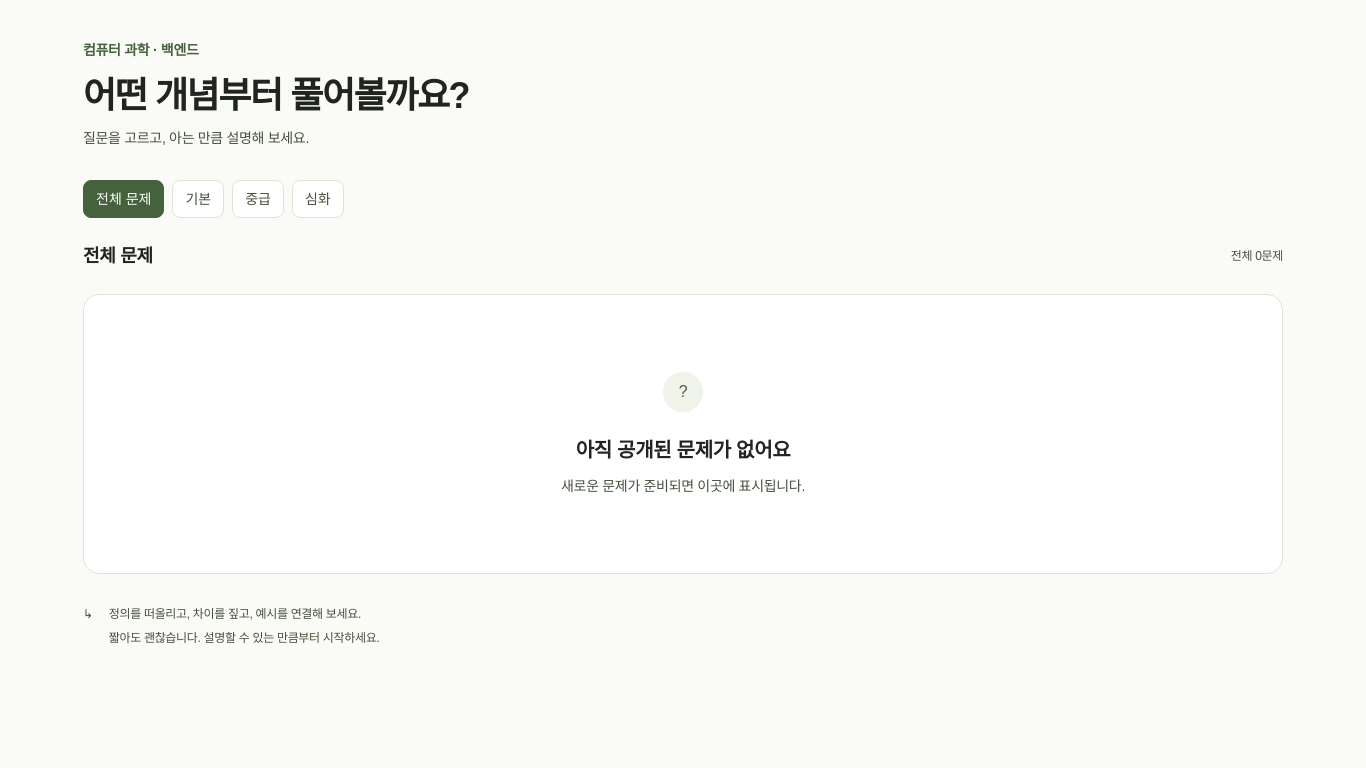
Test case: 문제 목록 화면 › 필터 결과가 없으면 전체 공개 문제 부족과 구분해서 안내한다
The width and height of the screenshot is (1366, 768).
Click the button "심화": (318, 199) 292,180 -> 344,218
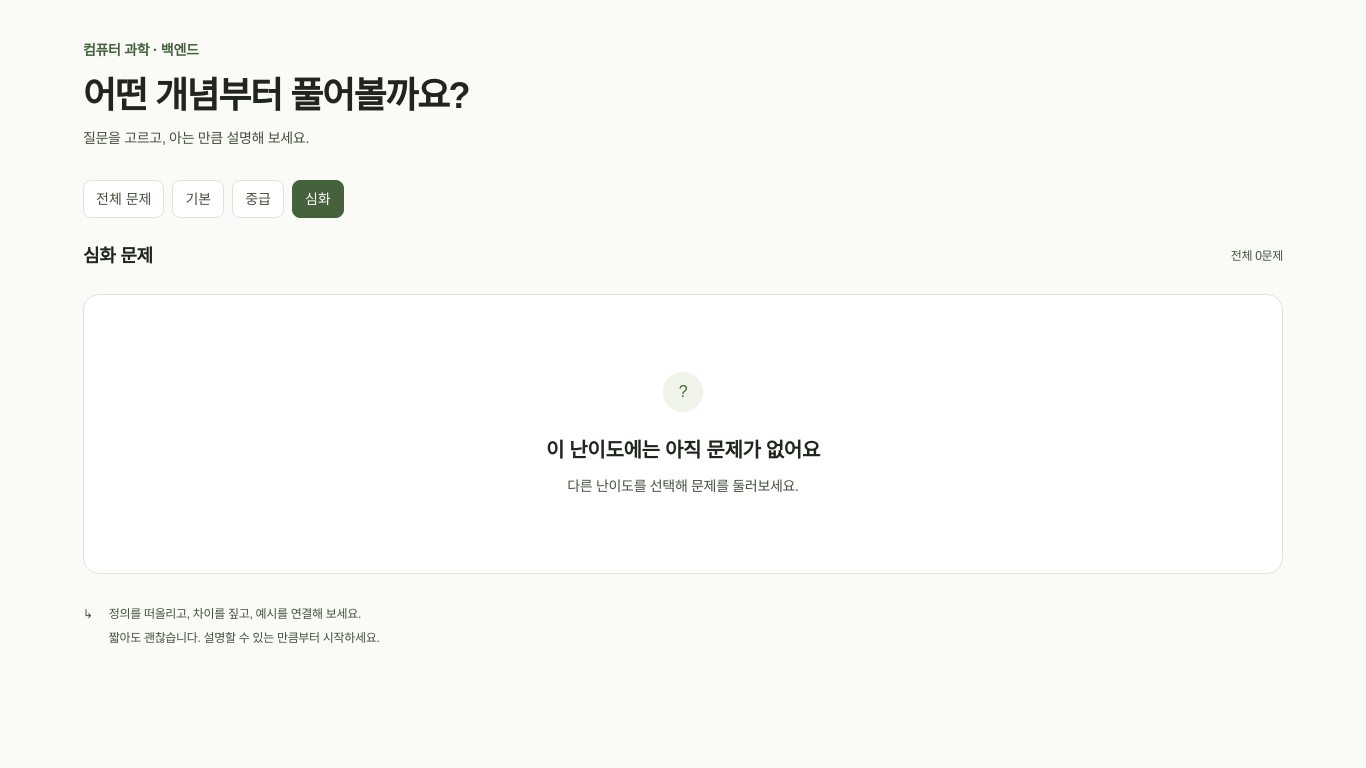
Check: the text "이 난이도에는 아직 문제가 없어요" is shown, box 546,436 -> 820,464
